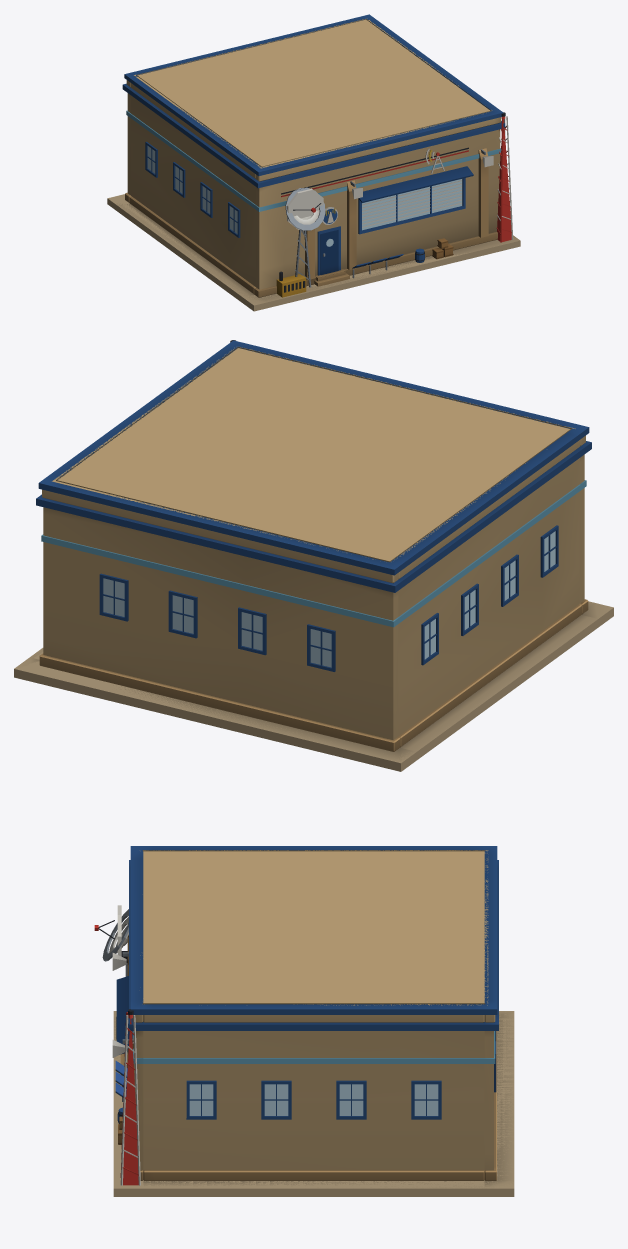
Rendered from FloppyFennecFloor.fbx.
The picture shows the model from 3 angles, top to bottom: view 1: azimuth 30°, elevation 25°; view 2: azimuth 150°, elevation 25°; view 3: azimuth 270°, elevation 25°; orthographic projection. The views are drawn at different scales.
Parts seen in each view (by area): view 1: RA_S_All, RA_F_Rings, RA_F_Smooth, RA_F_Quiet, RA_F_Glass, RA_F_Props; view 2: RA_F_Rings, RA_S_All, RA_F_Smooth, RA_F_Quiet, RA_F_Glass; view 3: RA_S_All, RA_F_Rings, RA_F_Smooth, RA_F_Quiet, RA_F_Glass, RA_F_Props.
Part boxes in pixels (x1,y1,x2,y2): RA_S_All: (107, 18, 520, 311); RA_F_Rings: (123, 14, 504, 289); RA_F_Smooth: (122, 74, 513, 297); RA_F_Quiet: (115, 148, 519, 305); RA_F_Glass: (147, 116, 505, 265); RA_F_Props: (276, 156, 493, 297); RA_F_Rings: (36, 340, 591, 739); RA_S_All: (14, 347, 613, 771); RA_F_Smooth: (36, 340, 591, 751); RA_F_Quiet: (14, 599, 613, 762); RA_F_Glass: (103, 531, 555, 667); RA_S_All: (113, 850, 514, 1196); RA_F_Rings: (116, 846, 498, 1170); RA_F_Smooth: (94, 915, 498, 1185); RA_F_Quiet: (114, 935, 513, 1188); RA_F_Glass: (115, 1014, 438, 1115); RA_F_Props: (102, 909, 128, 1144).
Size of the model in its own units: 60 by 20 by 60.
